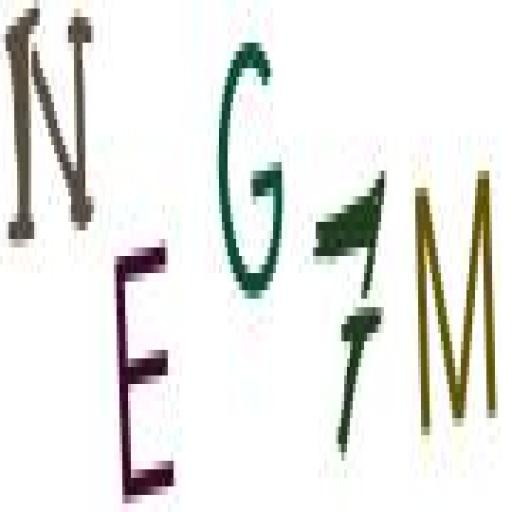7: (308, 177, 392, 472)
E: (110, 230, 183, 512)
G: (209, 26, 286, 323)
M: (412, 169, 499, 442)
N: (0, 0, 99, 265)
